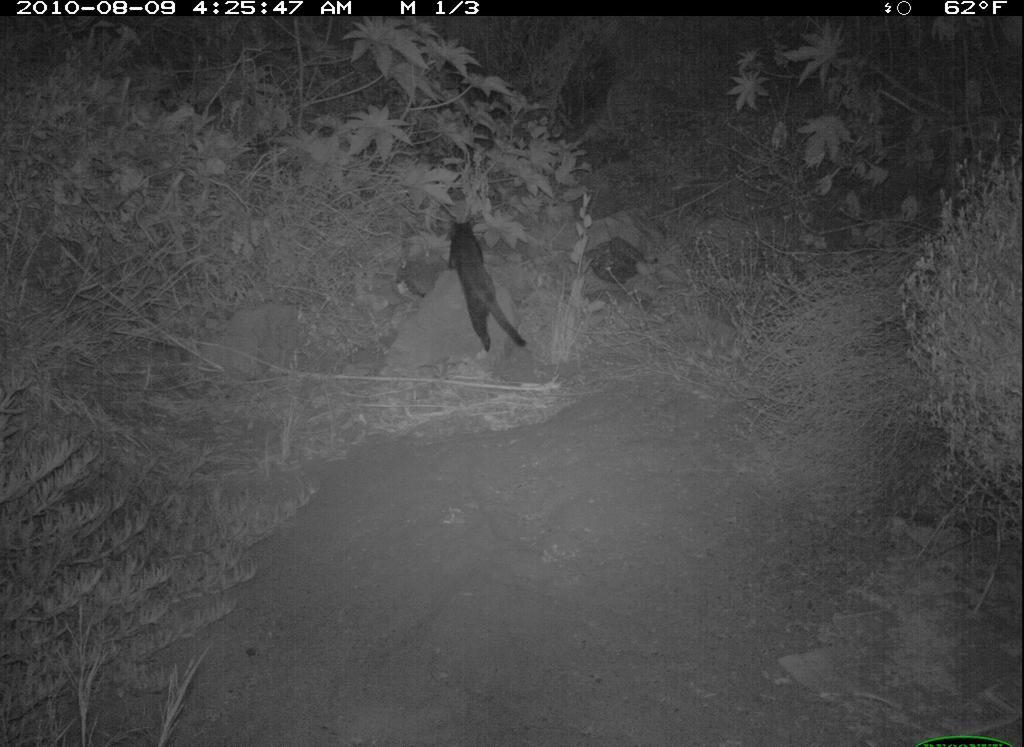cat: (438, 199, 536, 367)
